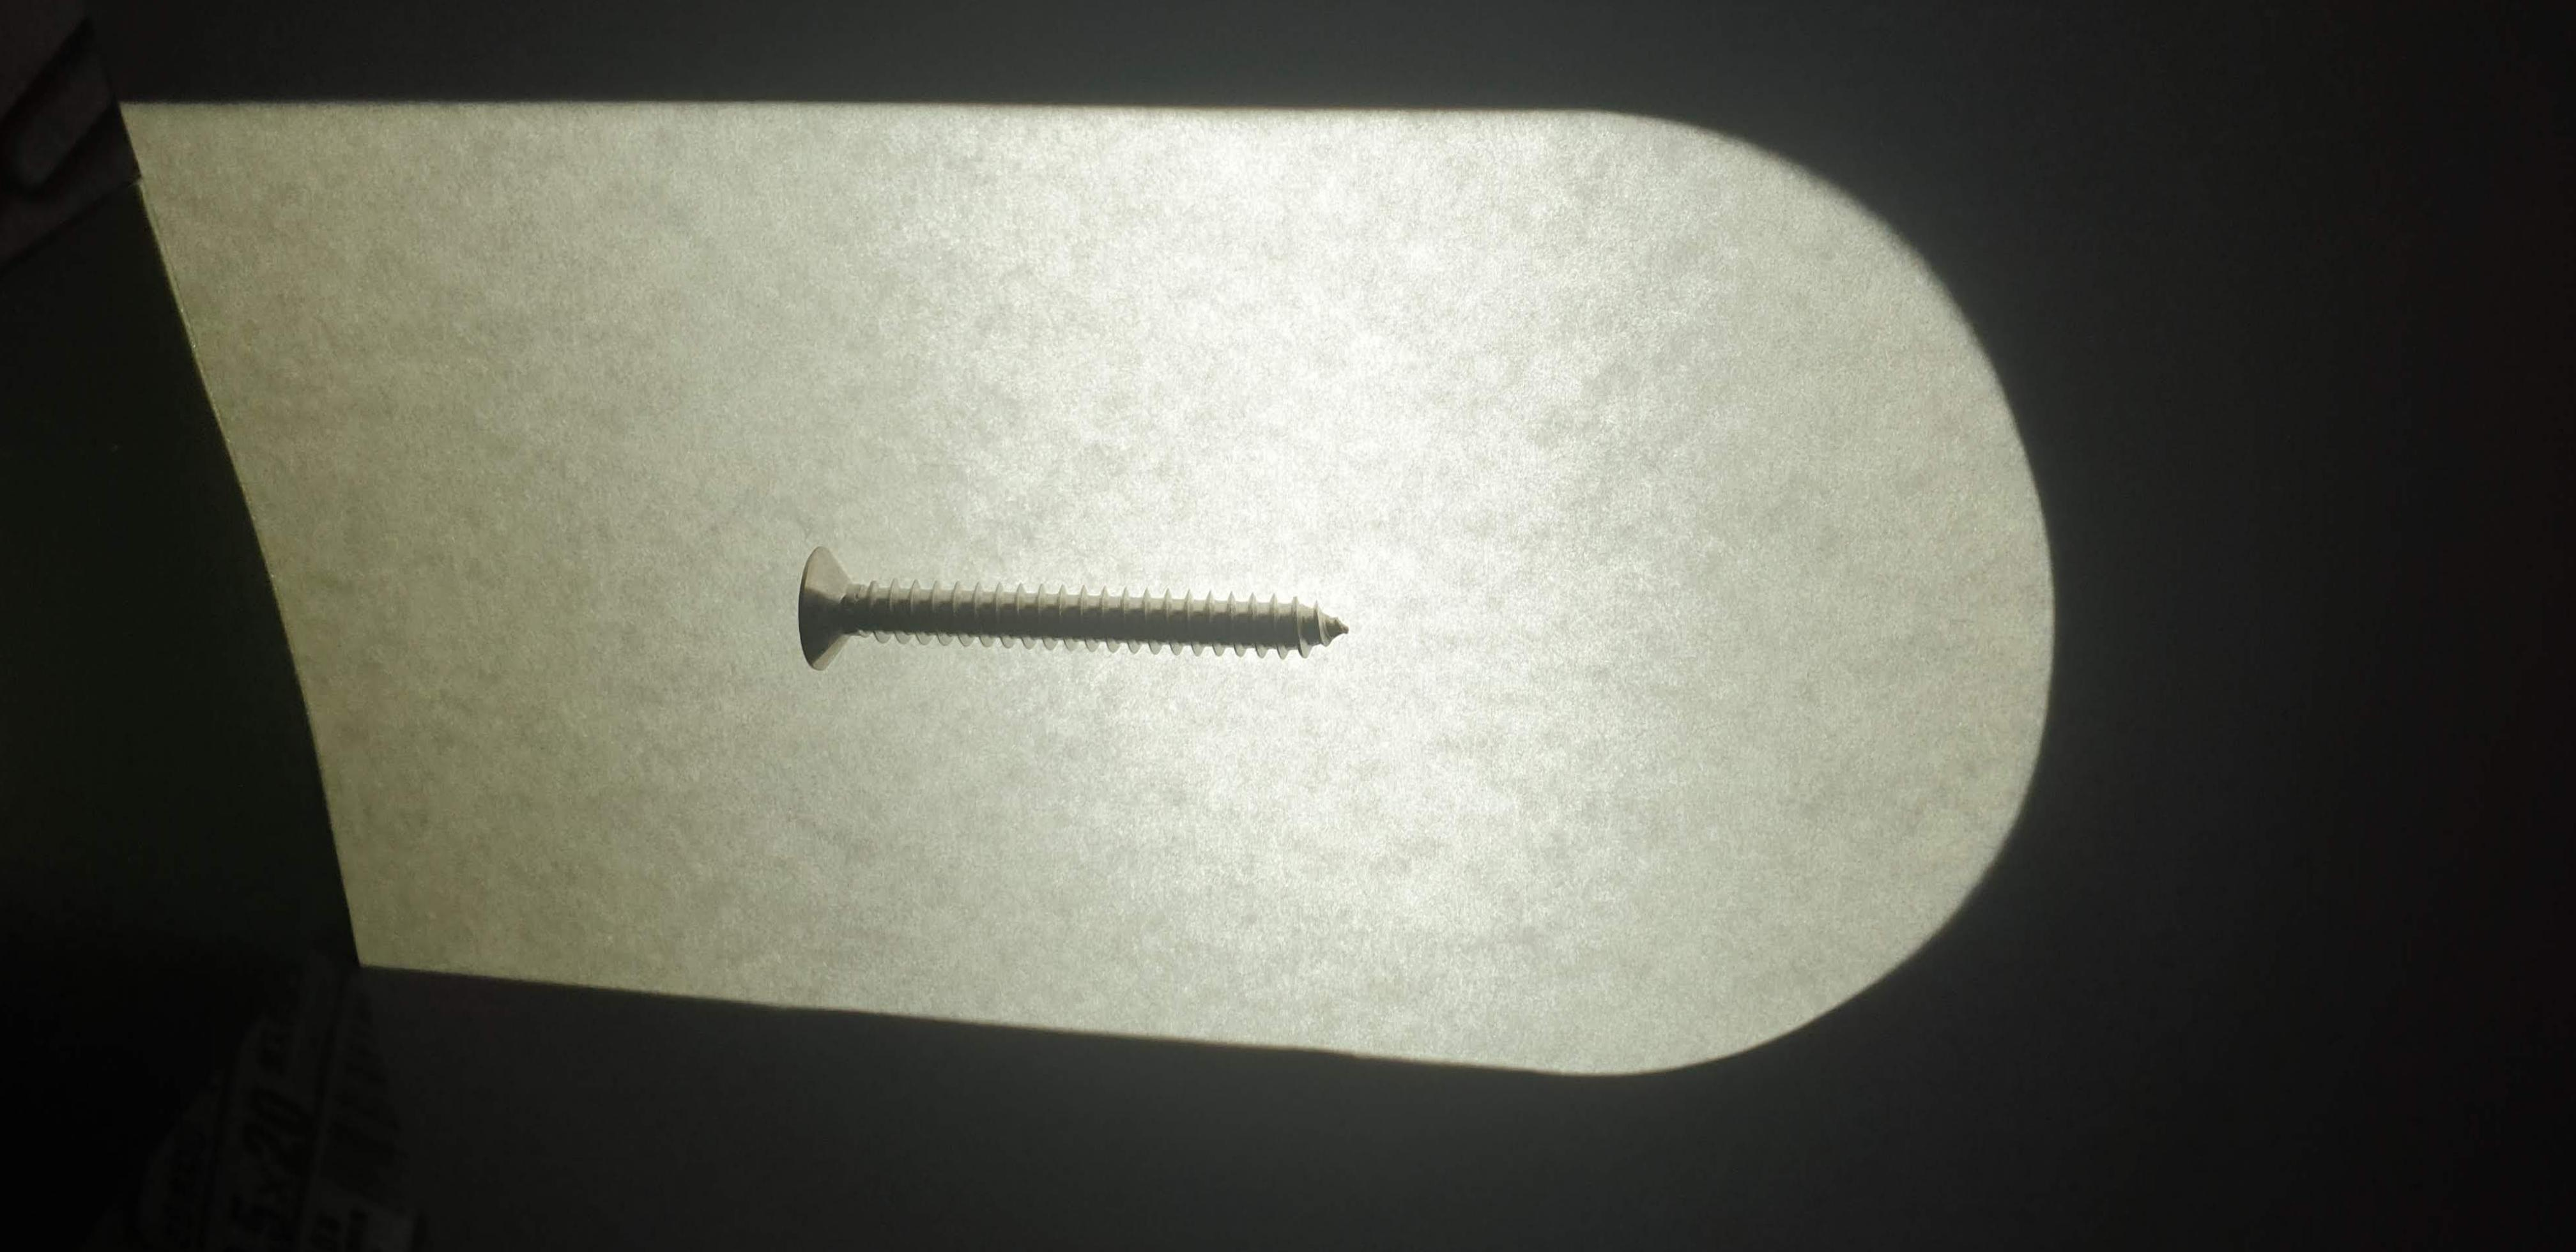S001: (752, 514, 1398, 707)
